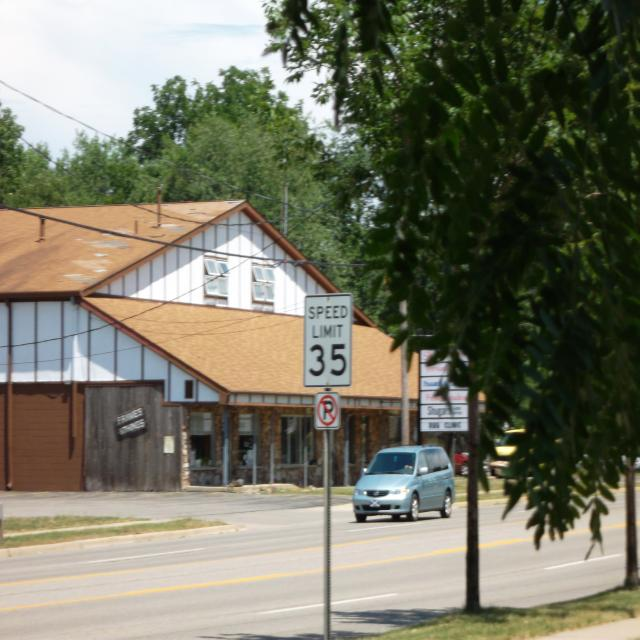regulatory: (304, 288, 352, 387), (311, 391, 343, 431)
